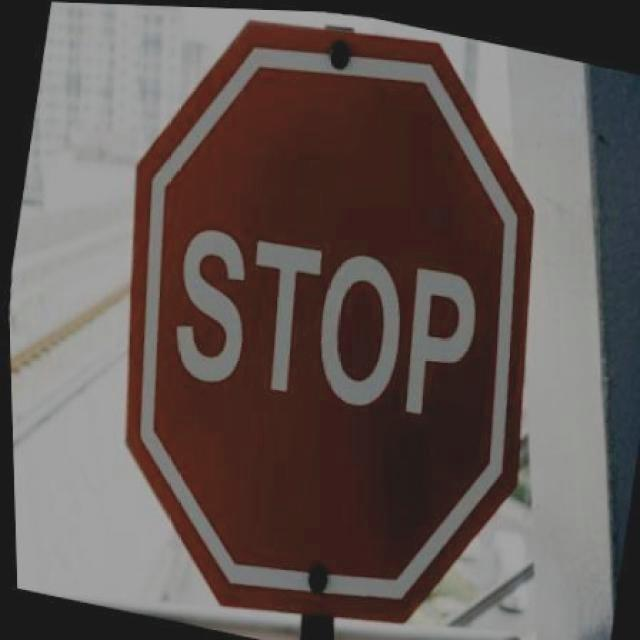stop_sign: (55, 1, 594, 640)
